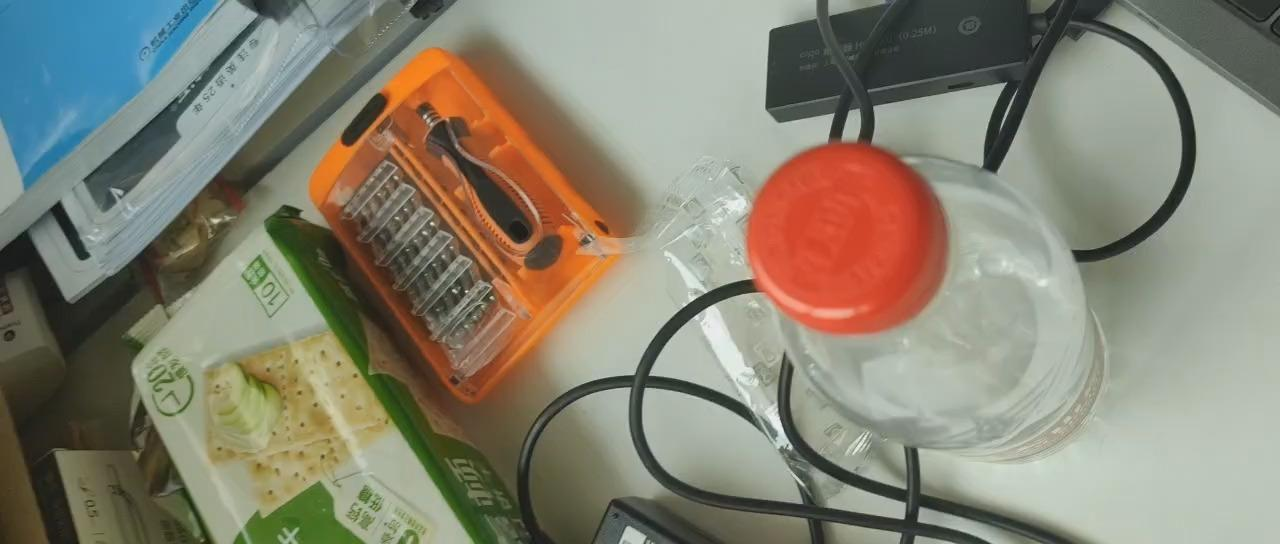BIODEGRADABLE: (747, 135, 1106, 464)
